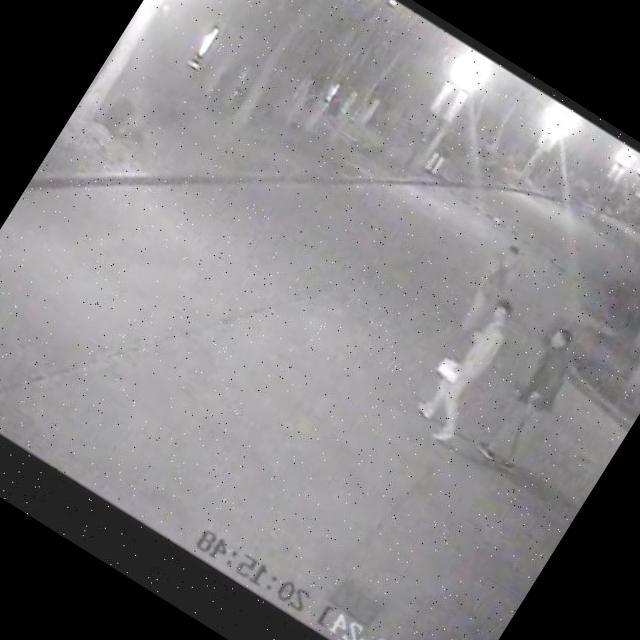person: (466, 298, 610, 481), (404, 286, 534, 452), (448, 228, 540, 334)
